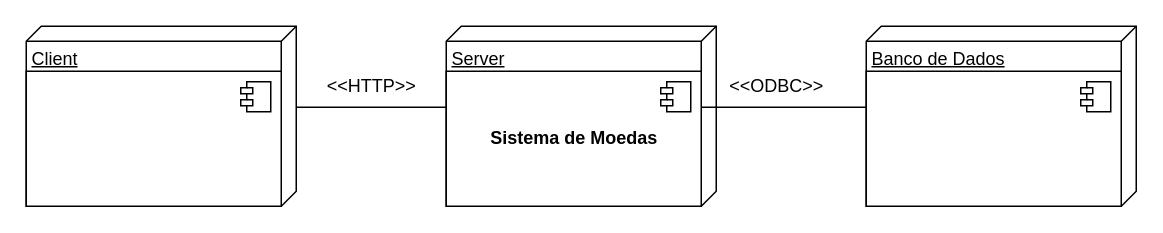
Image size: 1163x233. Some labels were removed from this diagram. The shapes that lost their labels are listed below. From the top down, each one's box as (x1, y1, x2, y2) in pixels, then its label:
(25, 70, 281, 206): Navegador
(865, 70, 1121, 206): SGBD
